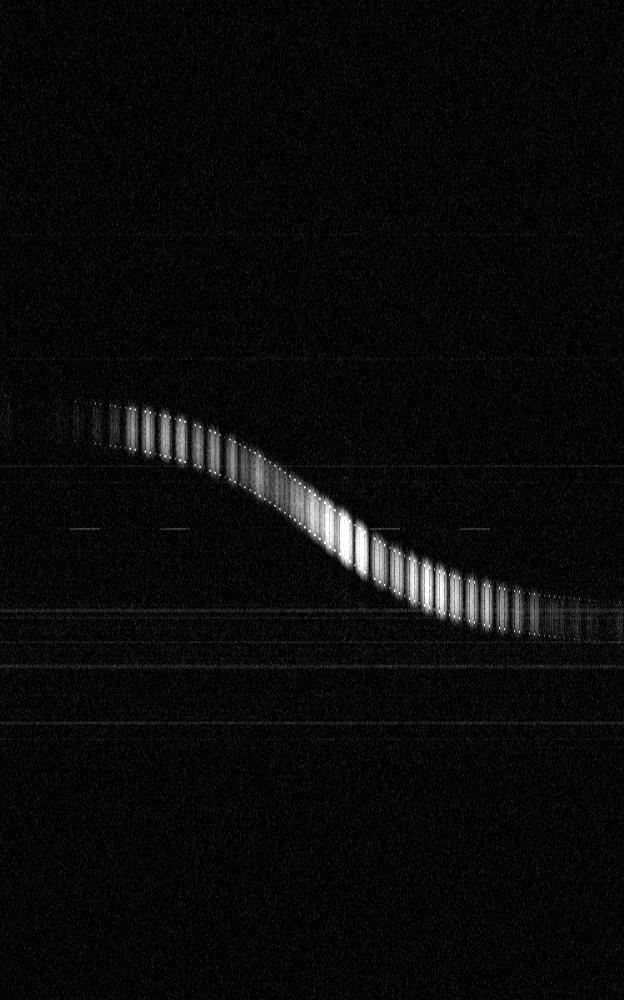signal: (0, 0, 623, 999)
